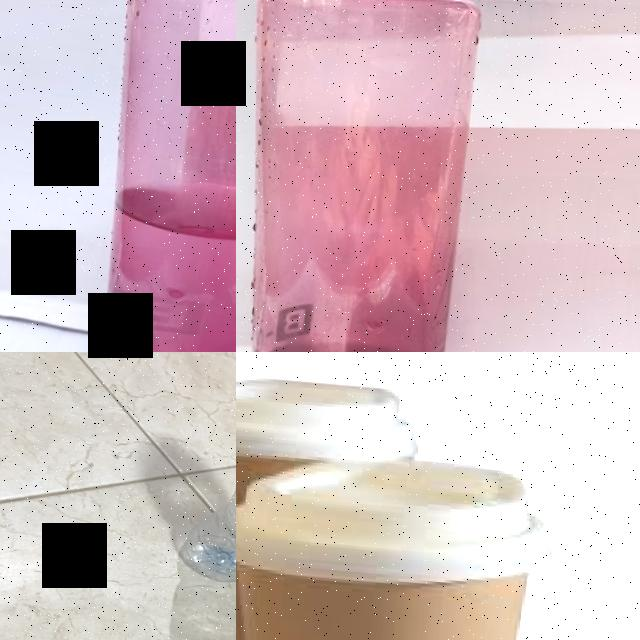bottle: (236, 0, 491, 352), (82, 0, 236, 352), (167, 352, 236, 611)
cup: (236, 441, 561, 640), (236, 363, 429, 640)
